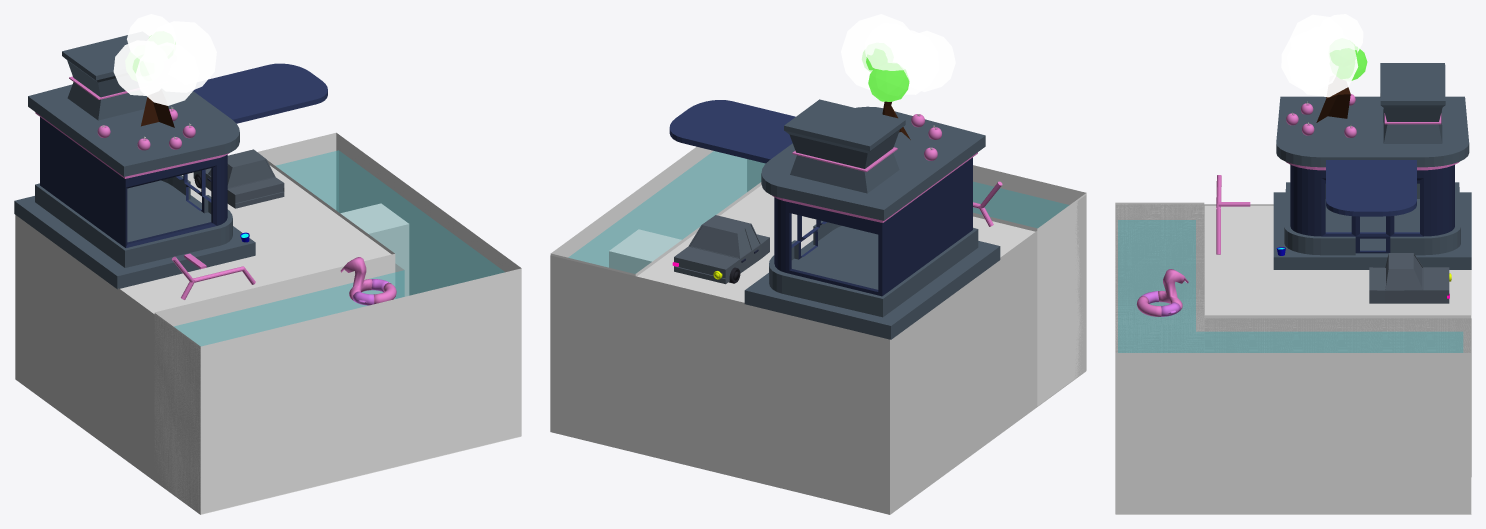
3 renders of one model, left to right at view 1: azimuth 30°, elevation 25°; view 2: azimuth 150°, elevation 25°; view 3: azimuth 270°, elevation 25°, orthographic. The views are drawn at different scales.
Visible parts, largest first — view 1: Cube.001, Cube, 立方体.005, 立方体.008, 立方体, 立方体.001, Icosphere.006, 立方体.006, 立方体.009, Icosphere.007, 立方体.007, 立方体.017 (+3 smaller); view 2: Cube, Cube.001, 立方体.005, 立方体, 立方体.001, 立方体.008, 立方体.007, 立方体.006, Icosphere.006, 立方体.009, 立方体.017, Icosphere.007 (+2 smaller); view 3: Cube.001, Cube, 立方体.005, 立方体.008, 立方体, 立方体.001, 立方体.006, 立方体.007, Icosphere.006, Icosphere.007, 立方体.017, 立方体.009 (+4 smaller).
Boxes of the visible parts, x1,y1,x2,y2 form: Cube.001: (154,132,521,514); Cube: (15,165,520,514); 立方体.005: (174,150,504,346); 立方体.008: (28,84,239,176); 立方体: (14,180,255,289); 立方体.001: (40,117,227,247); Icosphere.006: (113,21,216,95); 立方体.006: (193,63,327,123); 立方体.009: (35,175,232,267); Icosphere.007: (127,14,198,105); 立方体.007: (62,35,147,120); 立方体.017: (193,149,284,208); Cube: (550,185,1086,514); Cube.001: (550,146,1086,405); 立方体.005: (568,151,1068,273); 立方体: (744,226,1000,339); 立方体.001: (774,157,972,296); 立方体.008: (761,106,985,220); 立方体.007: (784,99,905,193); 立方体.006: (669,100,795,163); Icosphere.006: (841,14,955,91); 立方体.009: (769,220,978,317); 立方体.017: (674,215,769,284); Icosphere.007: (865,23,938,94); Cube.001: (1115,202,1470,514); Cube: (1115,204,1471,514); 立方体.005: (1118,220,1462,352); 立方体.008: (1276,96,1469,167); 立方体: (1273,192,1471,269); 立方体.001: (1290,165,1454,253); 立方体.006: (1326,160,1416,216); 立方体.007: (1380,63,1445,143); Icosphere.006: (1287,14,1358,97); Icosphere.007: (1281,14,1363,89); 立方体.017: (1369,253,1449,303); 立方体.009: (1284,182,1460,255).
Size of the model in its own units: 2.01 by 2.36 by 2.
